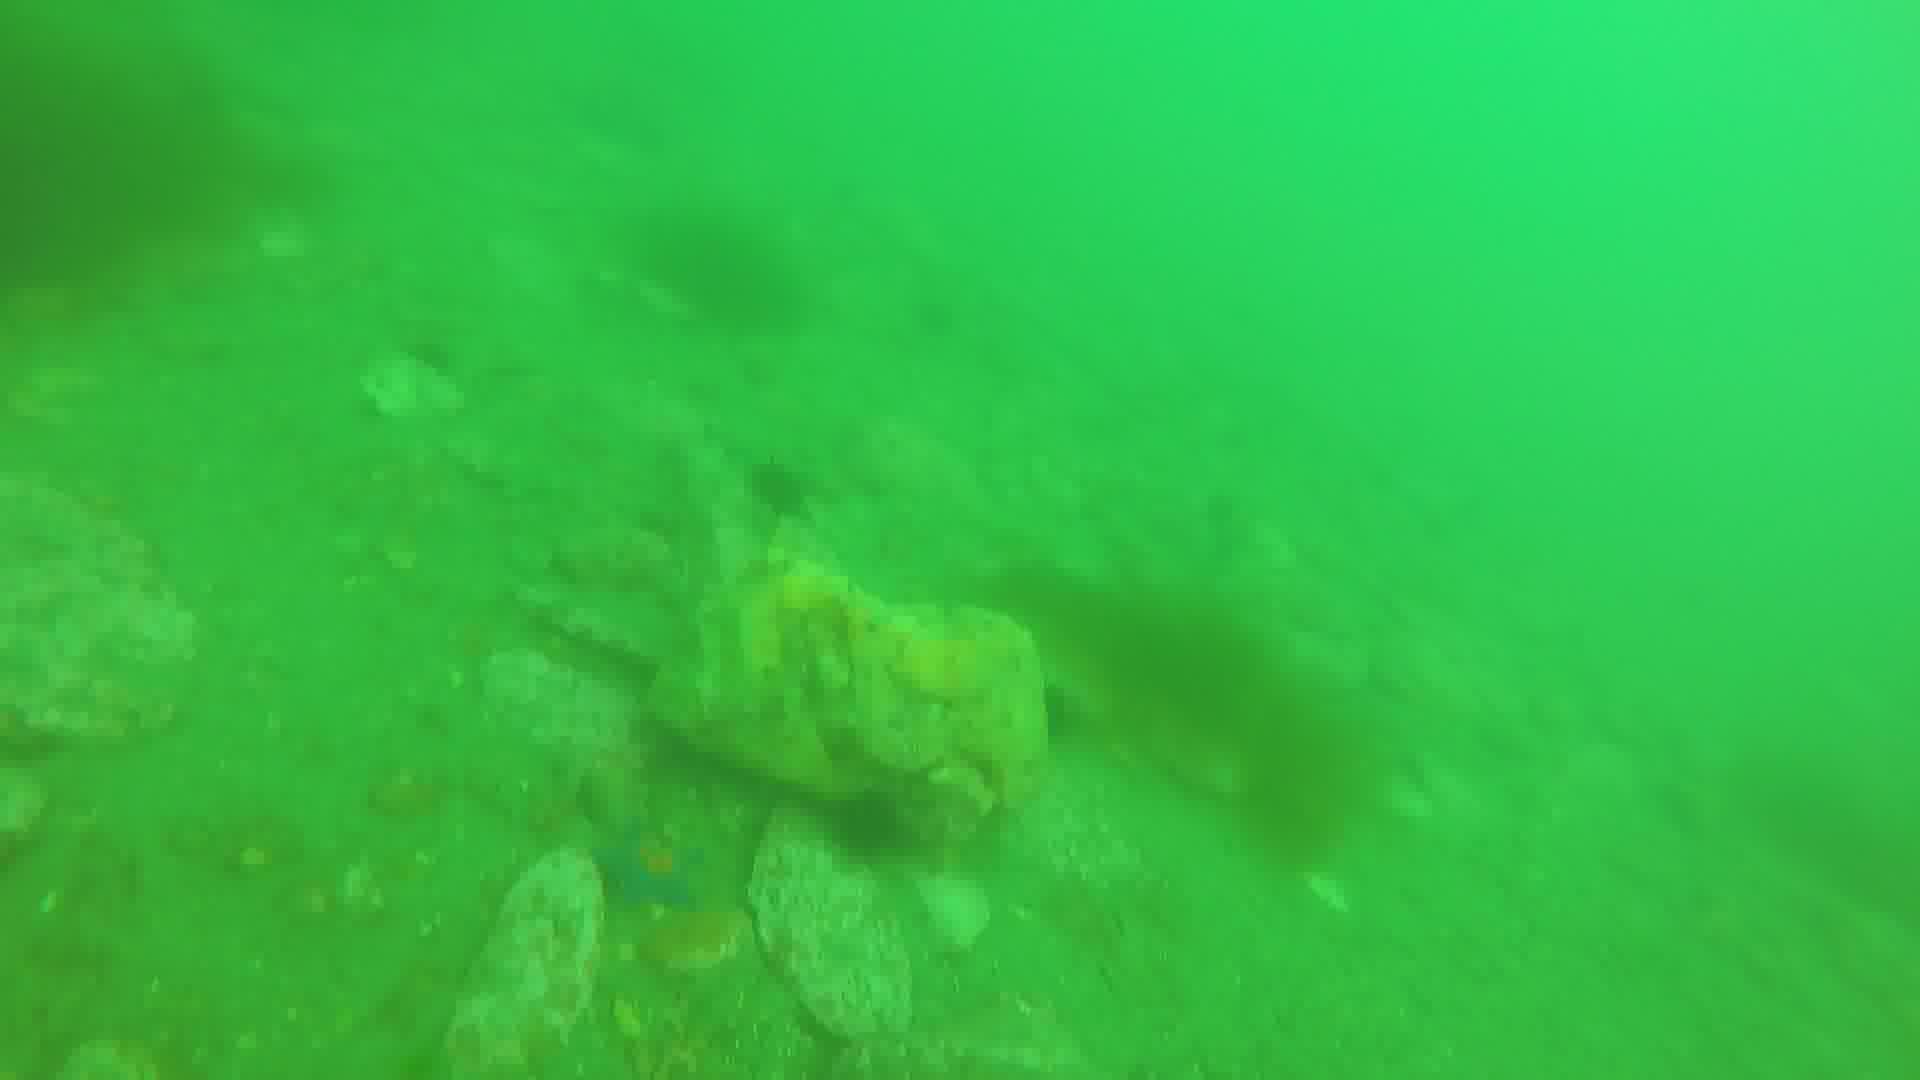echinus: (848, 789, 926, 876), (748, 454, 815, 524)
starfish: (600, 819, 700, 915)
